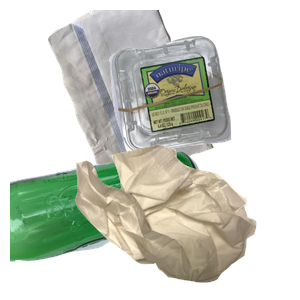glass: (10, 149, 203, 300)
paper: (45, 10, 251, 190)
plastic: (106, 34, 300, 183)
trash: (73, 142, 300, 300)
